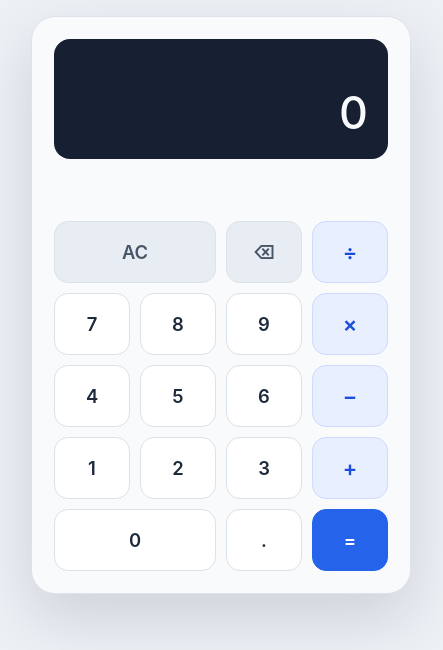
Scenario: Calculator › builds the displayed number from digit input
Click the button "1" at (92, 468), box 54,437 -> 130,499
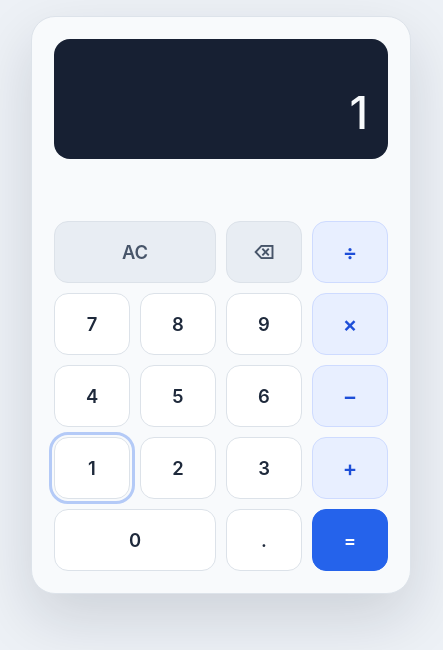
Click the button "2" at (178, 468), box 140,437 -> 216,499
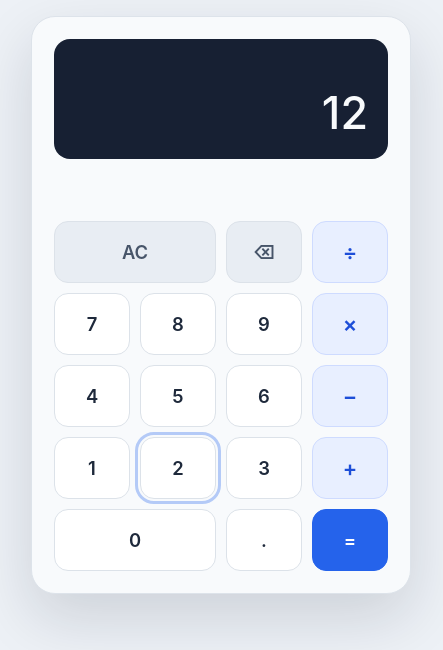
Click the button "5" at (178, 396), box 140,365 -> 216,427
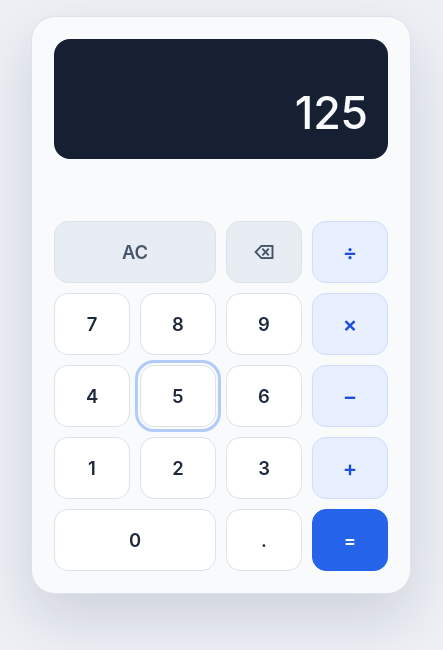
expect the text "125" is shown: met, box 295,86 -> 368,140
